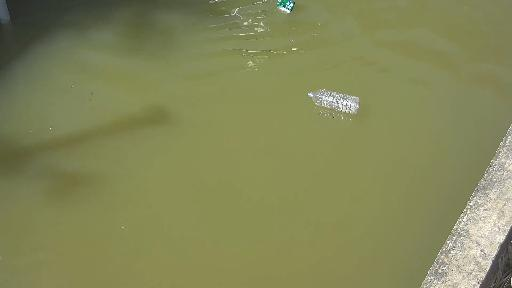plastic: (295, 71, 375, 123), (264, 0, 314, 18)
